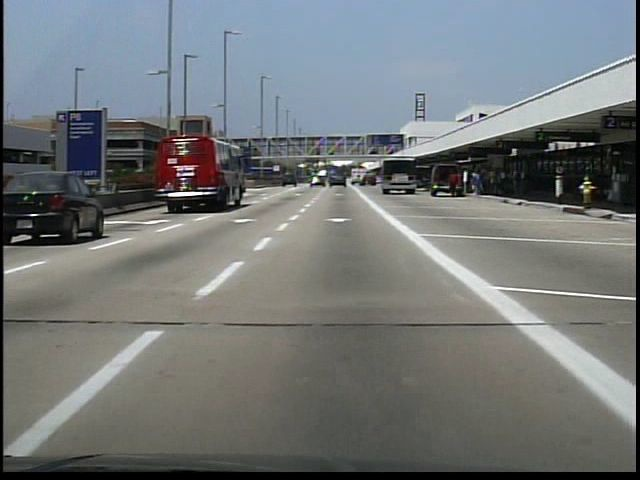person: (447, 168, 462, 203)
